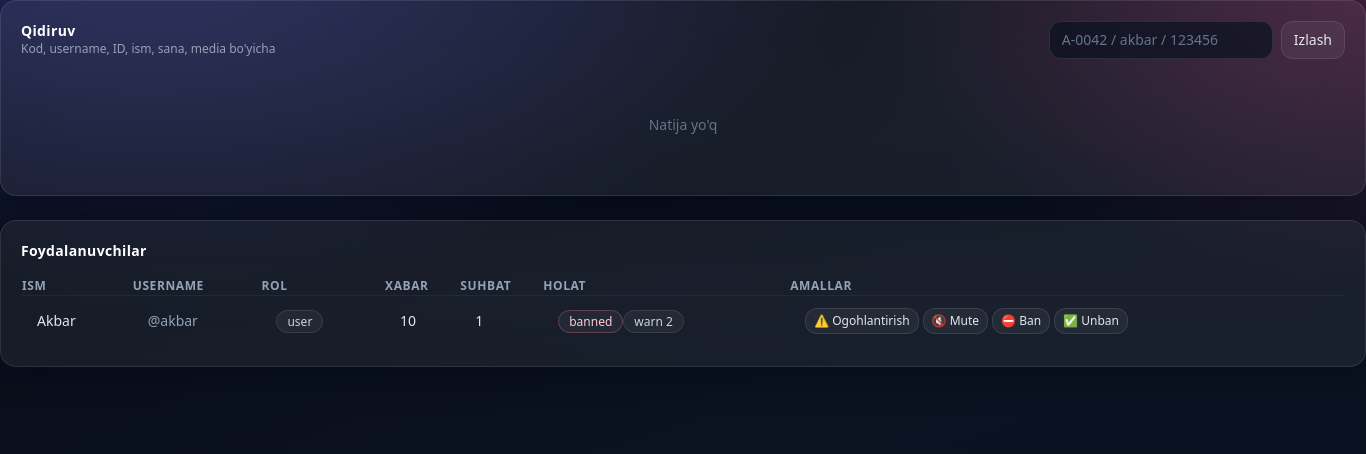
Scenario: UsersView actions › sends the moderation action with the prompted reason and refreshes
Click the button titled "✅ Unban": {"x": 1091, "y": 321} [1054,308,1128,334]
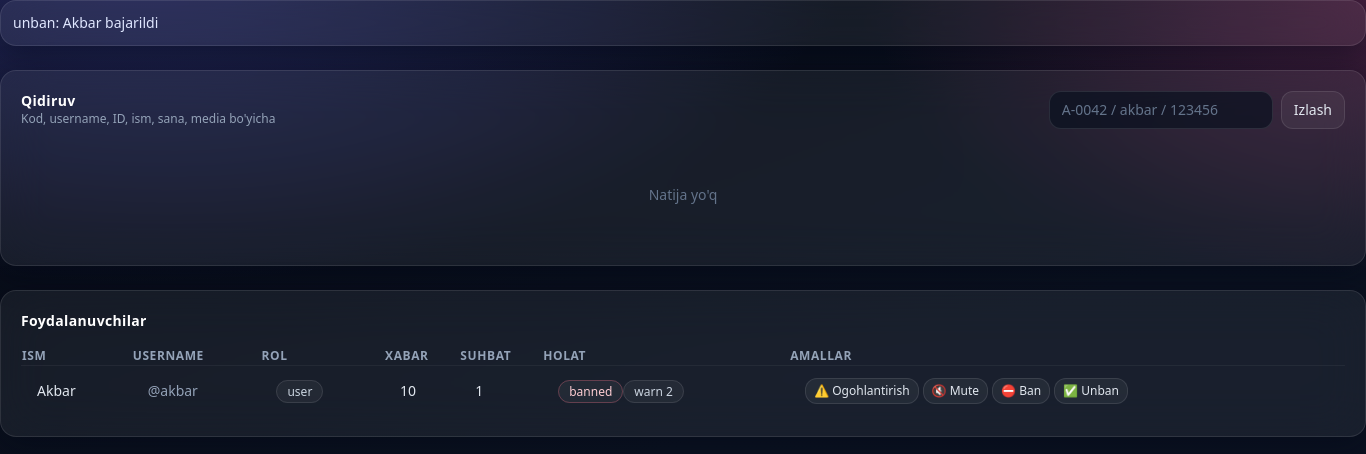
Now the text "unban: Akbar bajarildi" is shown, box [0,0,1365,46]
